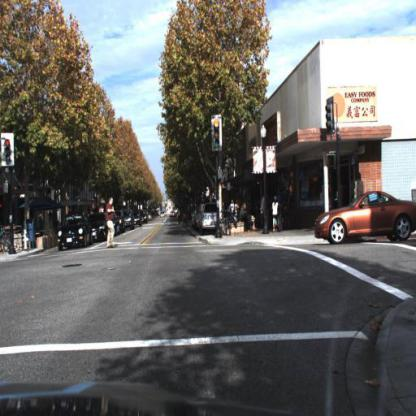car: (313, 192, 416, 242), (59, 214, 93, 251), (199, 200, 223, 239), (88, 212, 115, 239), (111, 214, 127, 236), (120, 211, 135, 231)
pedestrian: (352, 171, 366, 232), (269, 190, 285, 236), (104, 196, 117, 250), (238, 198, 254, 237), (261, 188, 272, 237), (271, 195, 282, 235), (38, 210, 44, 232), (177, 208, 182, 226)
trafficLight: (210, 116, 225, 157), (2, 131, 15, 171)
